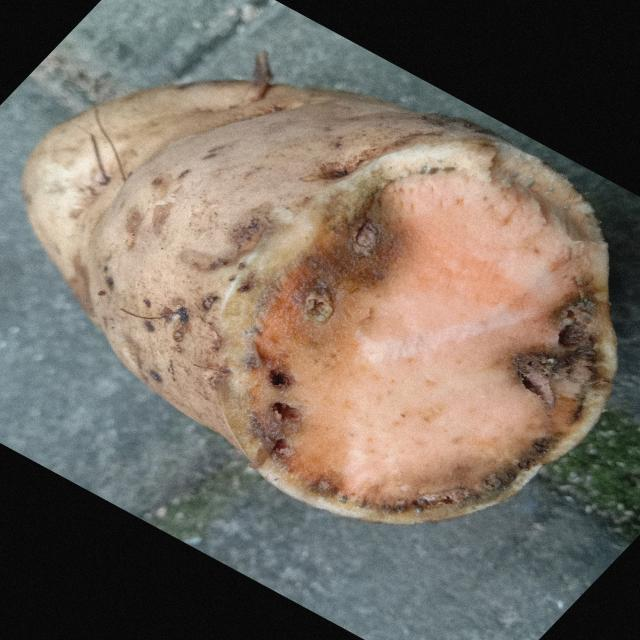Sick Sweet Potato_Tuber Rot: (220, 112, 615, 522)
